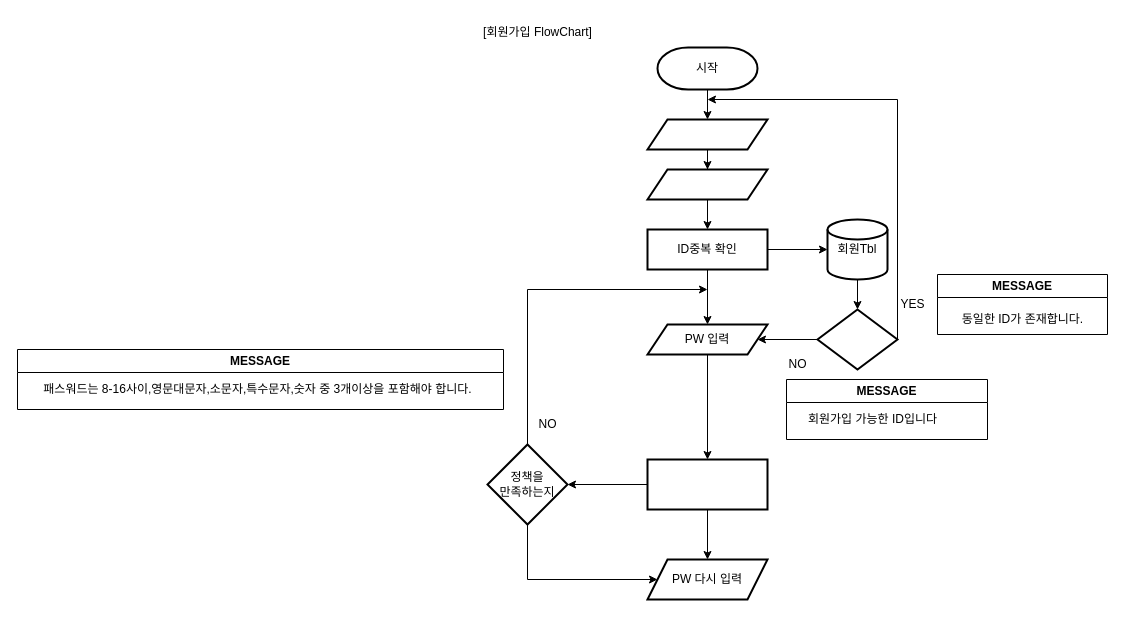
Some shapes in this 1125 by 617 pixel diagram are drawn without their labels. The shapes that lost their labels are listed below. From the top down, each one's centre as x and y in pixels, then its label:
At [707,134]: "ID 입력".
At [707,184]: "중복버튼 클릭".
At [857,339]: "ID존재?".
At [707,484]: "PW 암호화정책 유효성 검사".
